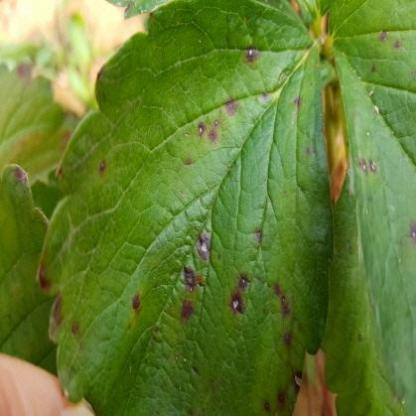Strawberry_Leaf_Spot: (39, 0, 334, 415), (325, 0, 415, 415), (322, 168, 403, 415)
